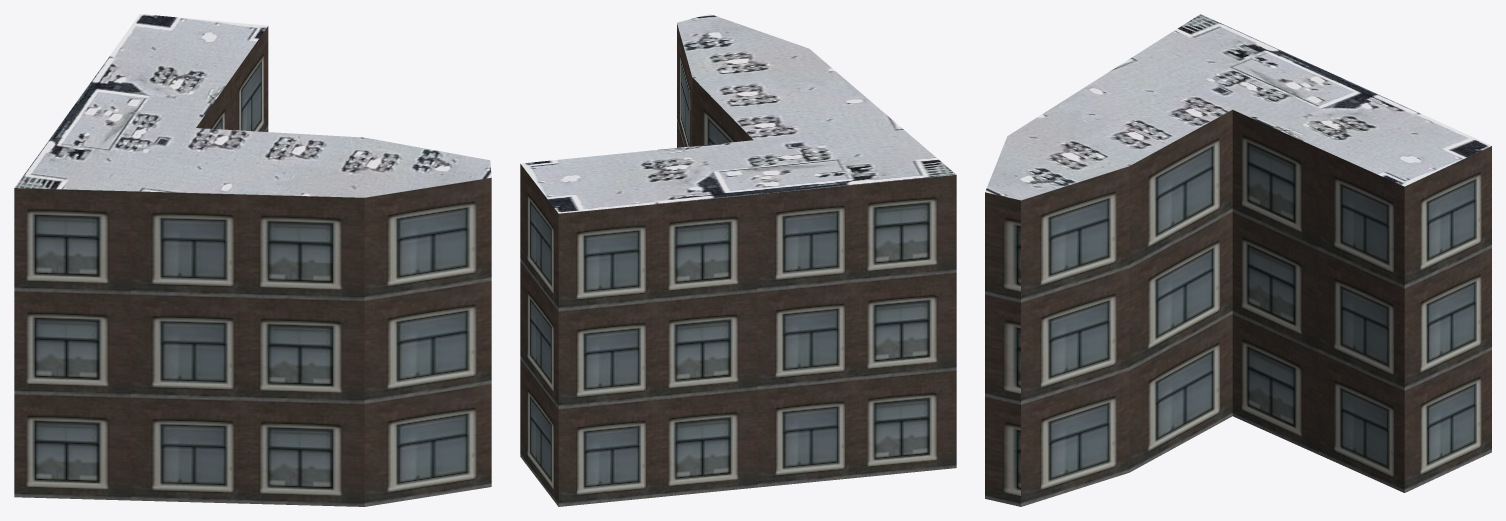
Rendered from ResTex__3461.fbx.
3 renders of one model, left to right at view 1: azimuth 30°, elevation 25°; view 2: azimuth 150°, elevation 25°; view 3: azimuth 270°, elevation 25°, orthographic. The views are drawn at different scales.
Visible parts, largest first — view 1: CityEngineMaterial_16_m, CityEngineMaterial_15_m; view 2: CityEngineMaterial_16_m, CityEngineMaterial_15_m; view 3: CityEngineMaterial_16_m, CityEngineMaterial_15_m.
Part boxes in pixels (x1,y1,x2,y2): CityEngineMaterial_16_m: (14,26,491,506); CityEngineMaterial_15_m: (14,14,491,197); CityEngineMaterial_16_m: (520,24,956,506); CityEngineMaterial_15_m: (521,14,955,213); CityEngineMaterial_16_m: (985,109,1491,506); CityEngineMaterial_15_m: (985,14,1491,200).
Bounding box in the file's own units: 11.74 × 9 × 13.49.
2 materials, 2 textured.
